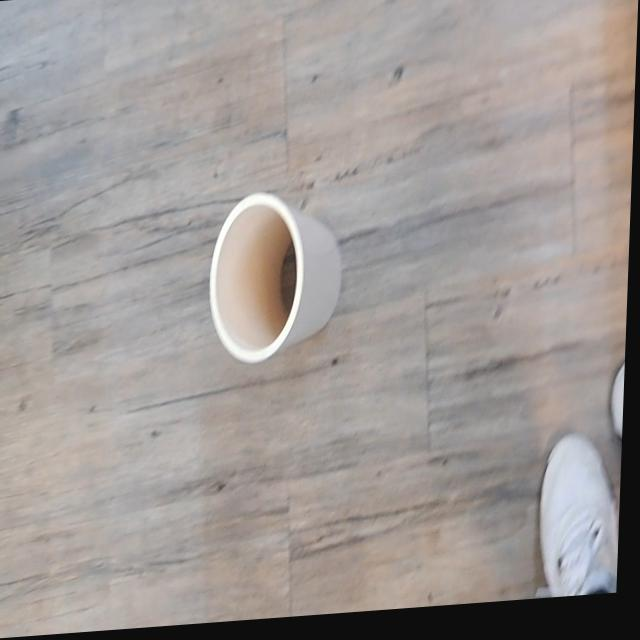CORAL: (178, 148, 373, 391)
